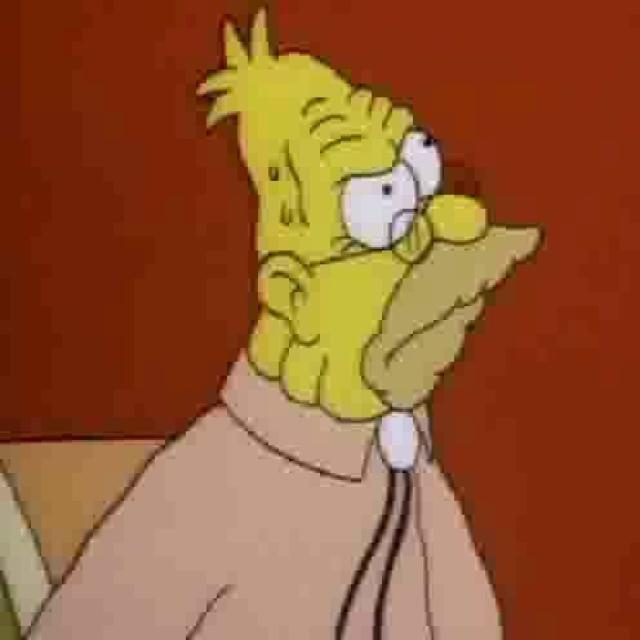Abraham Grampa Simpson: (193, 0, 544, 428)
